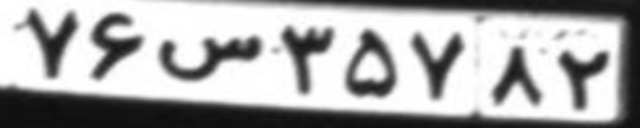2: (556, 48, 609, 110)
3: (279, 23, 333, 94)
5: (342, 28, 398, 98)
6: (88, 11, 144, 81)
7: (408, 30, 466, 100), (22, 8, 77, 79)
8: (488, 44, 544, 107)
sin: (154, 34, 262, 81)
